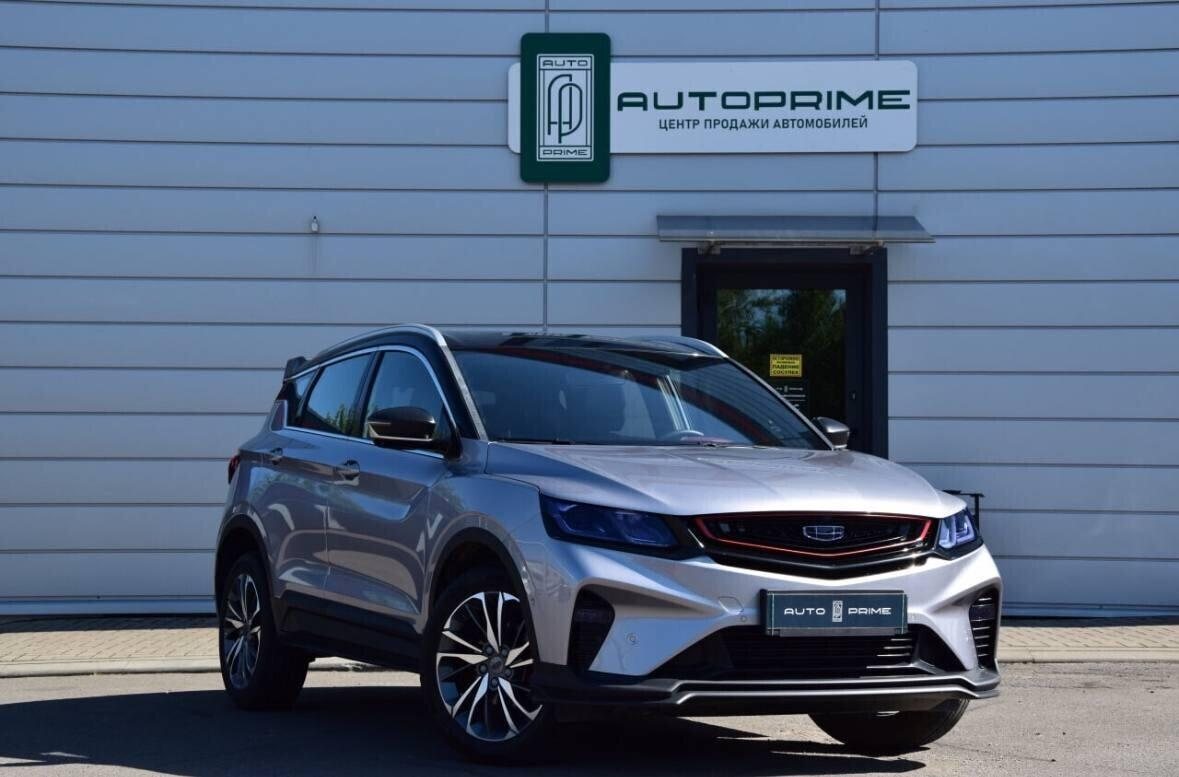Coolray_2019-2023: (202, 319, 1010, 759)
